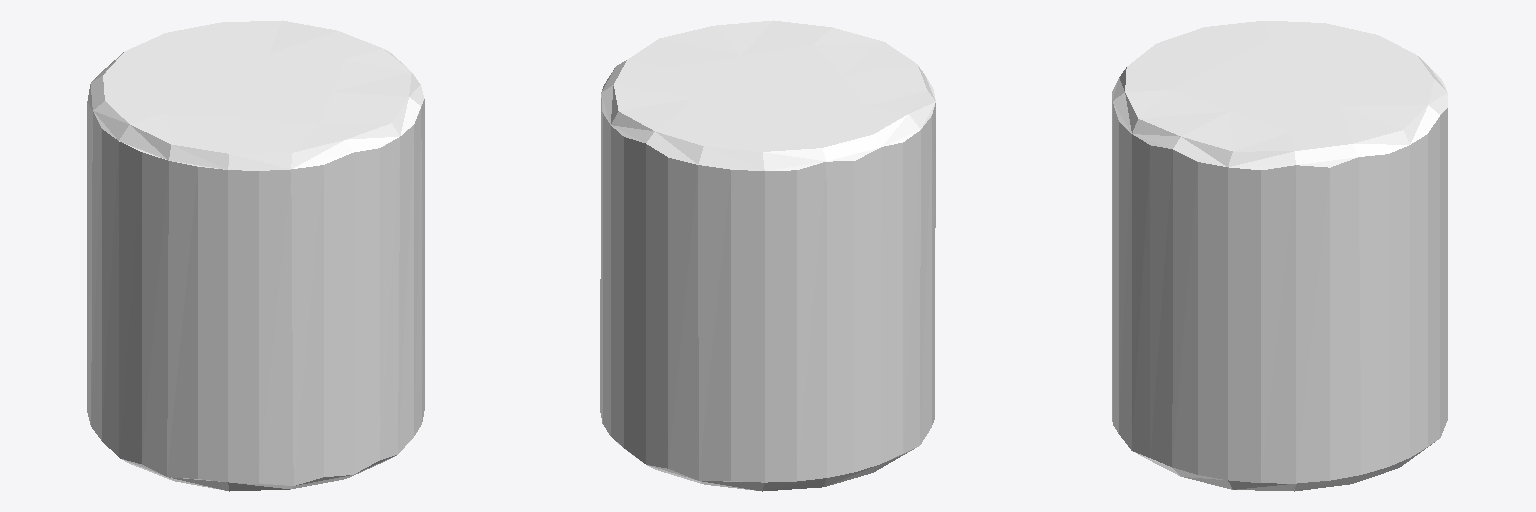
robot.urdf — cylinder.urdf:
<?xml version="1.0" ?>
<robot name="cylinder.urdf">
  <link name="baseLink">
    <contact>
      <friction_anchor/>
      <lateral_friction value="1.0"/>
      <rolling_friction value="0.0"/>
    </contact>
    <inertial>
      <origin rpy="0 0 0" xyz="0 0 0"/>
      <mass value="0.1"/>
      <inertia ixx="1" ixy="0" ixz="0" iyy="1" iyz="0" izz="1"/>
    </inertial>
    <visual>
      <origin rpy="0 0 0" xyz="0 0 0"/>
      <geometry>
        <mesh filename="cylinder.obj" scale="1.2 1.2 1.2"/> <!-- <mesh filename="../base_objects/cylinder.obj" -->
      </geometry>
      <material name="white">
        <color rgba="1 1 1 1"/>
      </material>
    </visual>
    <collision>
      <origin rpy="0 0 0" xyz="0 0 0"/>
      <geometry>
        <mesh filename="cylinder.obj" scale="1.2 1.2 1.2"/> <!-- <mesh filename="../base_objects/cylinder.obj" -->
      </geometry>
    </collision>
  </link>
  <type value="cylinder"/>
</robot>

--- Render facts (derived) ---
3 views of the same robot in one strip: view 1: azimuth 30°, elevation 25°; view 2: azimuth 150°, elevation 25°; view 3: azimuth 270°, elevation 25° (orthographic).
Model cylinder.urdf with 1 links and 0 joints (none), rooted at baseLink, posed all joints at 0.
Links seen in each view (by area): view 1: baseLink; view 2: baseLink; view 3: baseLink.
Link boxes in pixels (x1,y1,x2,y2): baseLink: [87, 20, 424, 491]; baseLink: [600, 20, 935, 491]; baseLink: [1112, 21, 1447, 491].
Size in the robot's own frame: 0.0538 by 0.0537 by 0.06 metres.
Meshes: 1 distinct files referenced, 1 mesh visuals loaded (1 OBJ).